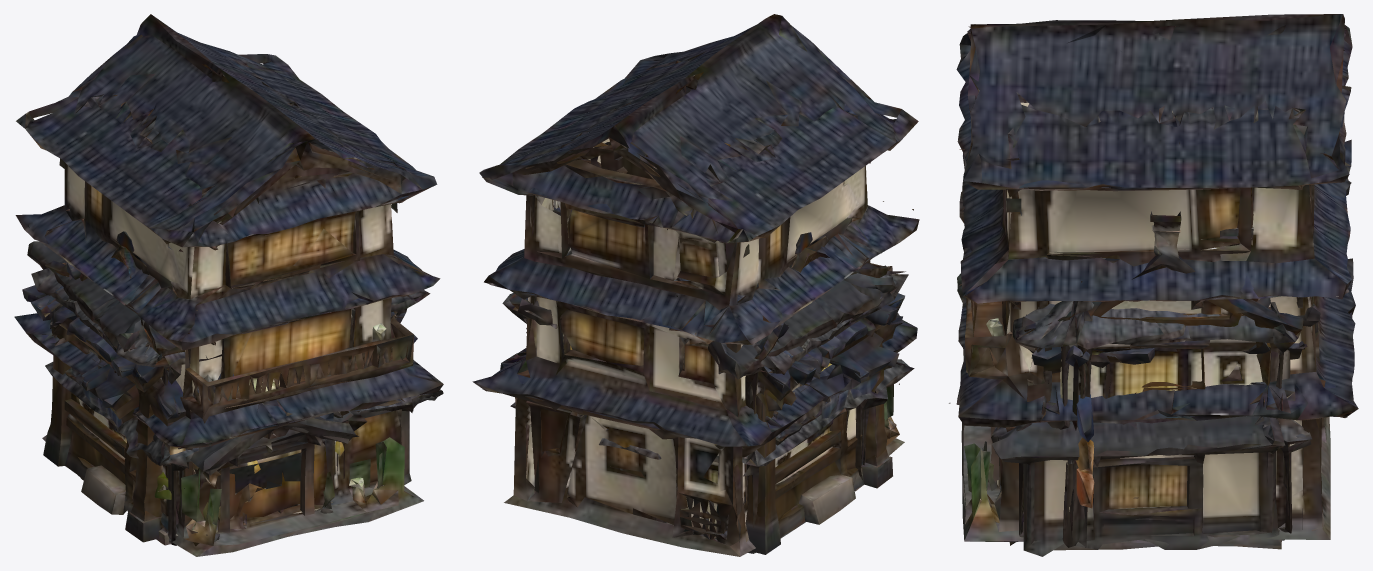
The model's file is compact.glb.
The picture shows the model from 3 angles, left to right: view 1: azimuth 30°, elevation 25°; view 2: azimuth 150°, elevation 25°; view 3: azimuth 270°, elevation 25°; orthographic projection. The views are drawn at different scales.
Visible parts, largest first — view 1: compact__villa_3__neural_lod, compact__junction_hub__neural_lod, compact__tower_2__neural_lod, compact__hotel_2__neural_lod, compact__shop_2__neural_lod; view 2: compact__villa_3__neural_lod, compact__junction_hub__neural_lod, compact__hotel_2__neural_lod, compact__tower_2__neural_lod, compact__shop_2__neural_lod; view 3: compact__villa_3__neural_lod, compact__tower_2__neural_lod, compact__hotel_2__neural_lod, compact__shop_2__neural_lod, compact__junction_hub__neural_lod.
Part boxes in pixels (box(x1,y1,x2,y2)): compact__villa_3__neural_lod: box(14, 14, 443, 556); compact__junction_hub__neural_lod: box(22, 262, 417, 542); compact__tower_2__neural_lod: box(27, 241, 443, 542); compact__hotel_2__neural_lod: box(31, 262, 436, 545); compact__shop_2__neural_lod: box(45, 182, 308, 545); compact__villa_3__neural_lod: box(472, 14, 919, 556); compact__junction_hub__neural_lod: box(526, 277, 904, 554); compact__hotel_2__neural_lod: box(502, 247, 914, 553); compact__tower_2__neural_lod: box(517, 273, 909, 540); compact__shop_2__neural_lod: box(509, 207, 887, 491); compact__villa_3__neural_lod: box(949, 14, 1358, 545); compact__tower_2__neural_lod: box(956, 113, 1350, 556); compact__hotel_2__neural_lod: box(991, 211, 1311, 547); compact__shop_2__neural_lod: box(1006, 211, 1303, 550); compact__junction_hub__neural_lod: box(1031, 341, 1307, 508).
Size of the model in its own units: 1.03 by 1.25 by 0.9858.
5 materials, 5 textured.
